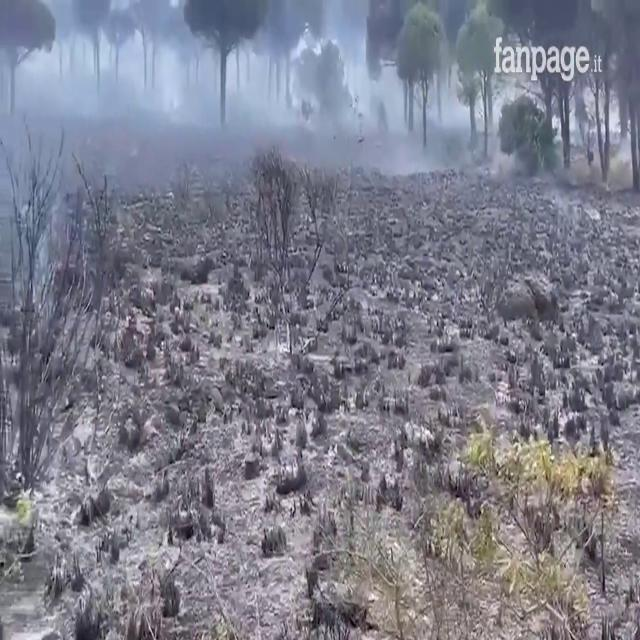Smoke: (4, 0, 518, 146)
